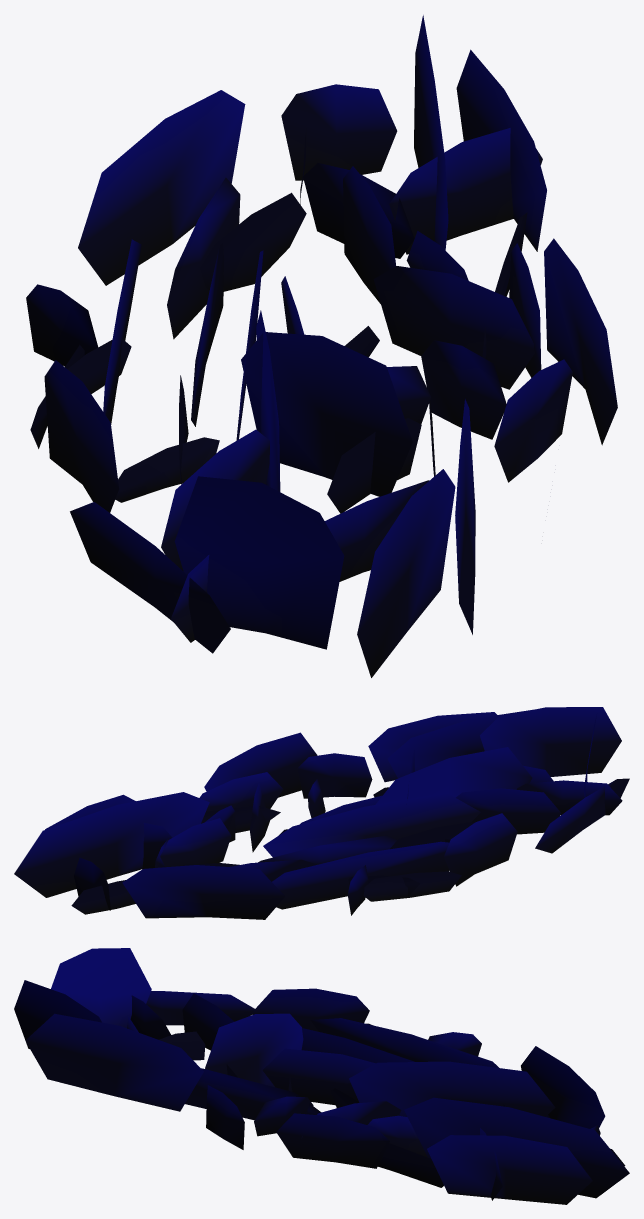
Rendered from SM_Grass_S_Patch_Lg_02.fbx.
3 renders of one model, top to bottom at view 1: azimuth 30°, elevation 25°; view 2: azimuth 150°, elevation 25°; view 3: azimuth 270°, elevation 25°, orthographic. The views are drawn at different scales.
Parts seen in each view (by area): view 1: SM_Grass_S_Patch_Lg_02; view 2: SM_Grass_S_Patch_Lg_02; view 3: SM_Grass_S_Patch_Lg_02.
Part boxes in pixels (left/top/right/bottom): SM_Grass_S_Patch_Lg_02: left=26, top=15, right=617, bottom=677; SM_Grass_S_Patch_Lg_02: left=14, top=707, right=629, bottom=919; SM_Grass_S_Patch_Lg_02: left=14, top=948, right=629, bottom=1204.
Size of the model in its own units: 285 by 387 by 60.82.
